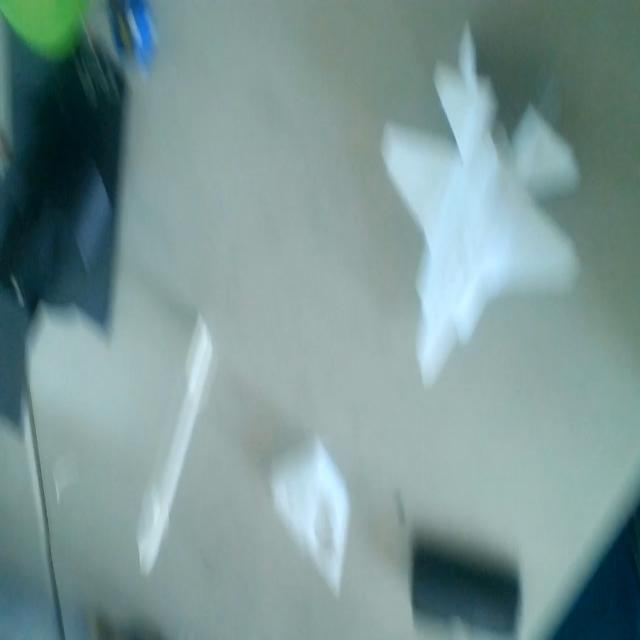Jet: (372, 26, 585, 391)
Rocket: (132, 306, 220, 585)
